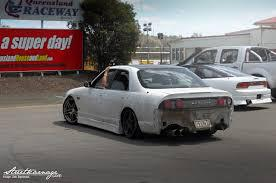rear-bumper-dent: (157, 111, 230, 139)
